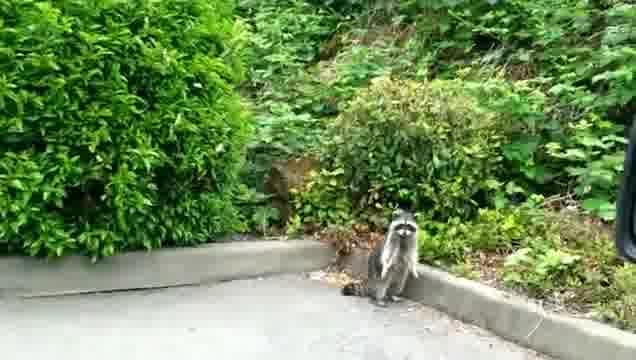raccoon: (339, 204, 430, 307)
